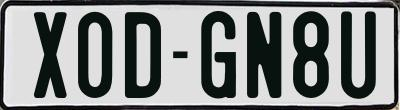0: (78, 9, 114, 95)
8: (290, 9, 331, 102)
D: (122, 11, 161, 102)
G: (198, 8, 235, 100)
N: (245, 10, 281, 101)
U: (339, 8, 378, 98)
X: (33, 11, 67, 101)
